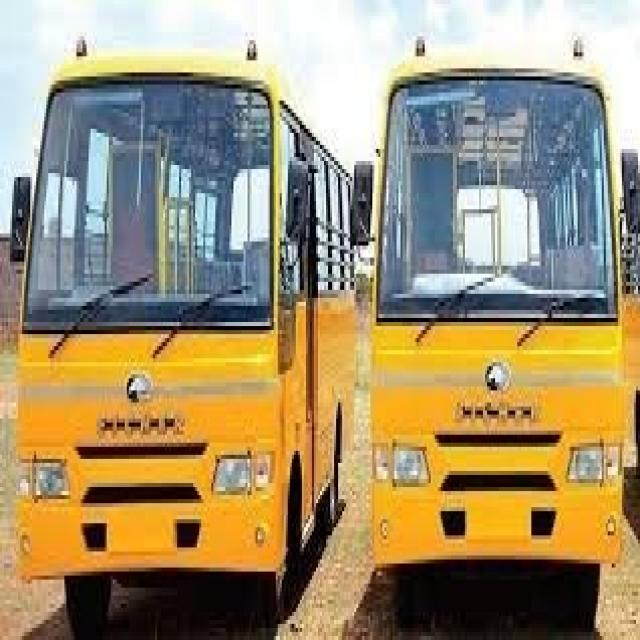bus: (5, 34, 368, 630), (359, 34, 640, 612)
